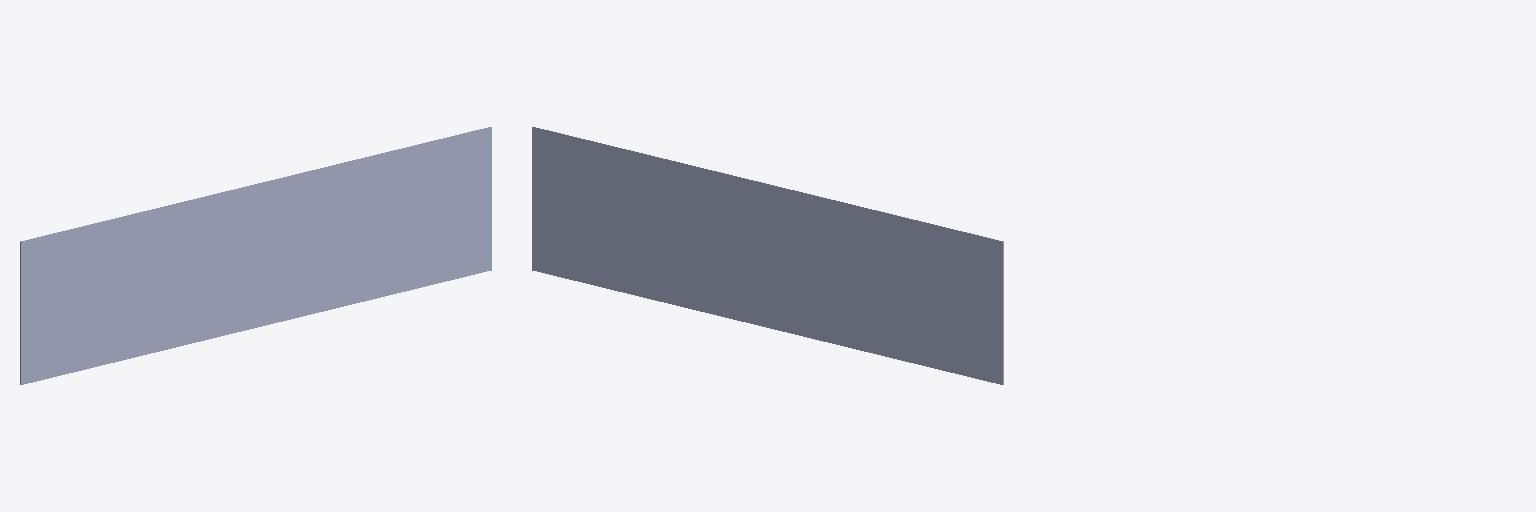
robot.urdf — ground.SLDPRT:
<?xml version="1.0" encoding="utf-8"?>
<!-- This URDF was automatically created by SolidWorks to URDF Exporter! Originally created by [author] ([email redacted]) 
     Commit Version: 1.5.1-0-g916b5db  Build Version: 1.5.7152.31018
     For more information, please see http://wiki.ros.org/sw_urdf_exporter -->
<robot
  name="ground.SLDPRT">
  <link
    name="ground">
    <inertial>
      <origin
        xyz="-49.357 -0.00500000000000088 -14.412"
        rpy="0 0 0" />
      <mass
        value="29200" />
      <inertia
        ixx="2074800"
        ixy="-1.44740000000099E-11"
        ixz="1.6139E-07"
        iyy="26408000"
        iyz="-1.10322909209072E-10"
        izz="24333000" />
    </inertial>
    <visual>
      <origin
        xyz="0 0 0"
        rpy="1.5707963267949 0 0" />
      <geometry>
        <mesh
          filename="package://ground/meshes/ground.STL" />
      </geometry>
      <material
        name="">
        <color
          rgba="0.79216 0.81961 0.93333 1" />
        <texture
          filename="package://ground/textures/" />
      </material>
    </visual>
    <collision>
      <origin
        xyz="0 0 0"
        rpy="1.5707963267949 0 0" />
      <geometry>
        <mesh
          filename="package://ground/meshes/ground.STL" />
      </geometry>
    </collision>
  </link>
</robot>

--- Facts derived from the render (not from the file) ---
The picture shows the robot from 3 angles, left to right: view 1: azimuth 30°, elevation 25°; view 2: azimuth 150°, elevation 25°; view 3: azimuth 270°, elevation 25°; orthographic projection.
Robot: ground.SLDPRT — 1 links, 0 joints (none); root link ground; default pose: every joint at zero.
Visible links, largest first — view 1: ground; view 2: ground; view 3: none.
Boxes of the visible links, <box> form: ground: <box>20,127,491,384</box>; ground: <box>532,127,1003,384</box>.
Size in the robot's own frame: 100 by 0.01 by 29.2 metres.
1 mesh visuals loaded from 1 distinct referenced files (1 binary STL).